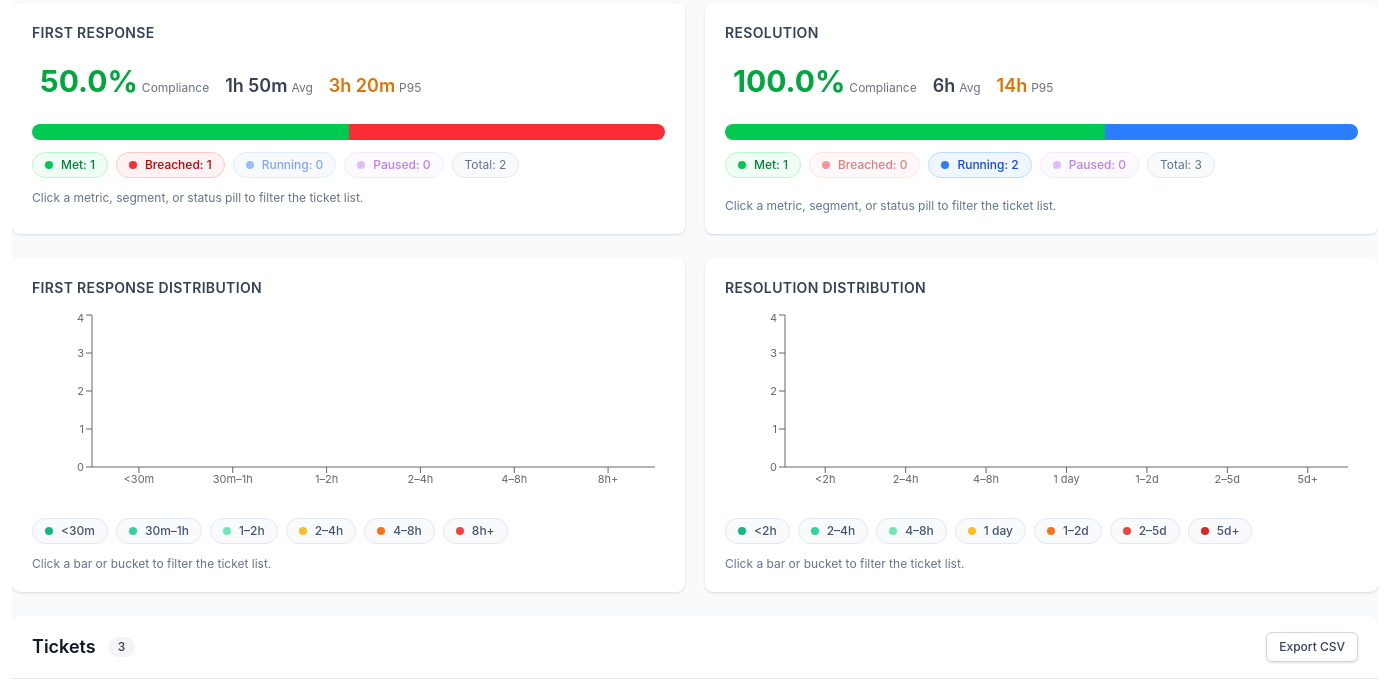
Test: SLAPage › filters the ticket list when a distribution bucket is clicked
The image size is (1390, 685).
Expected: the heading "First Response Distribution" is shown, [32,279,262,296]
Step 1. Click the button named "Filter First Response Distribution bucket <30m" → coordinates (70, 531), box [32,518,108,544]
(page scrolled)
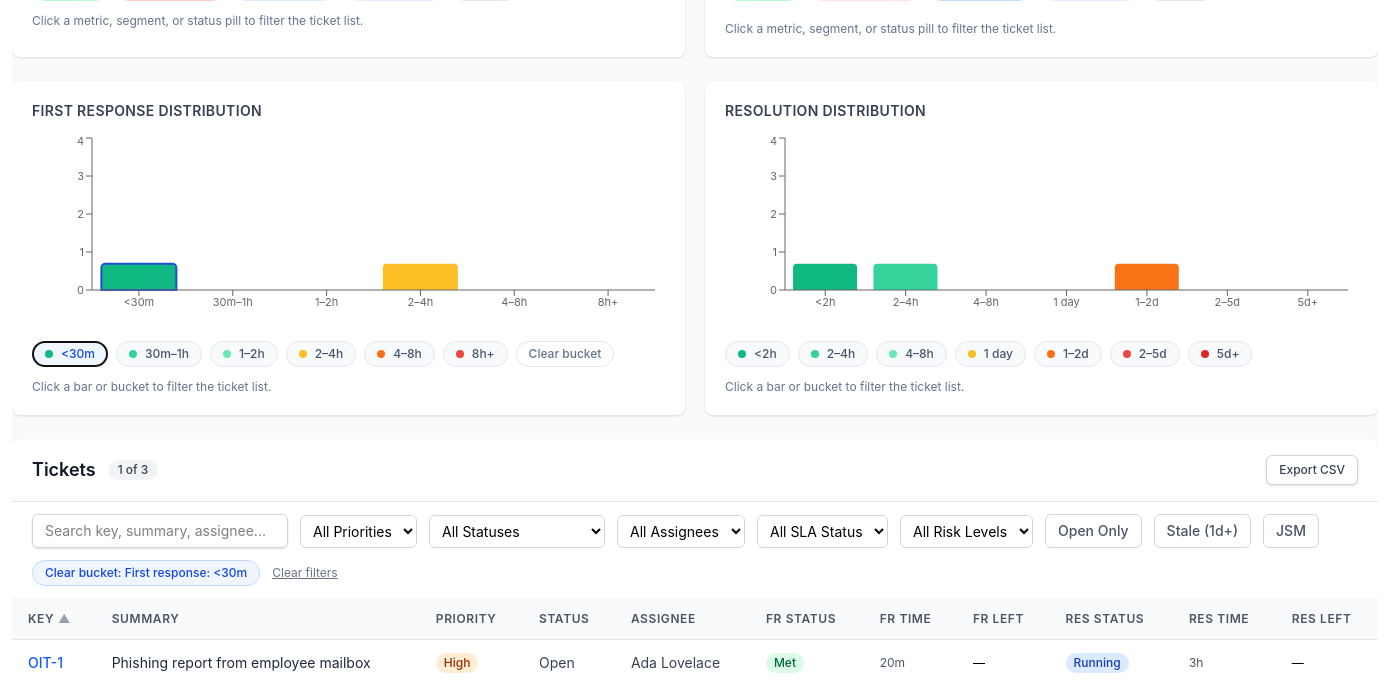
Expected: the link "OIT-1" is shown, [28,654,63,670]
Step 2. Click the button "Clear bucket: First response: <30m" → coordinates (146, 573), box [32,560,260,586]
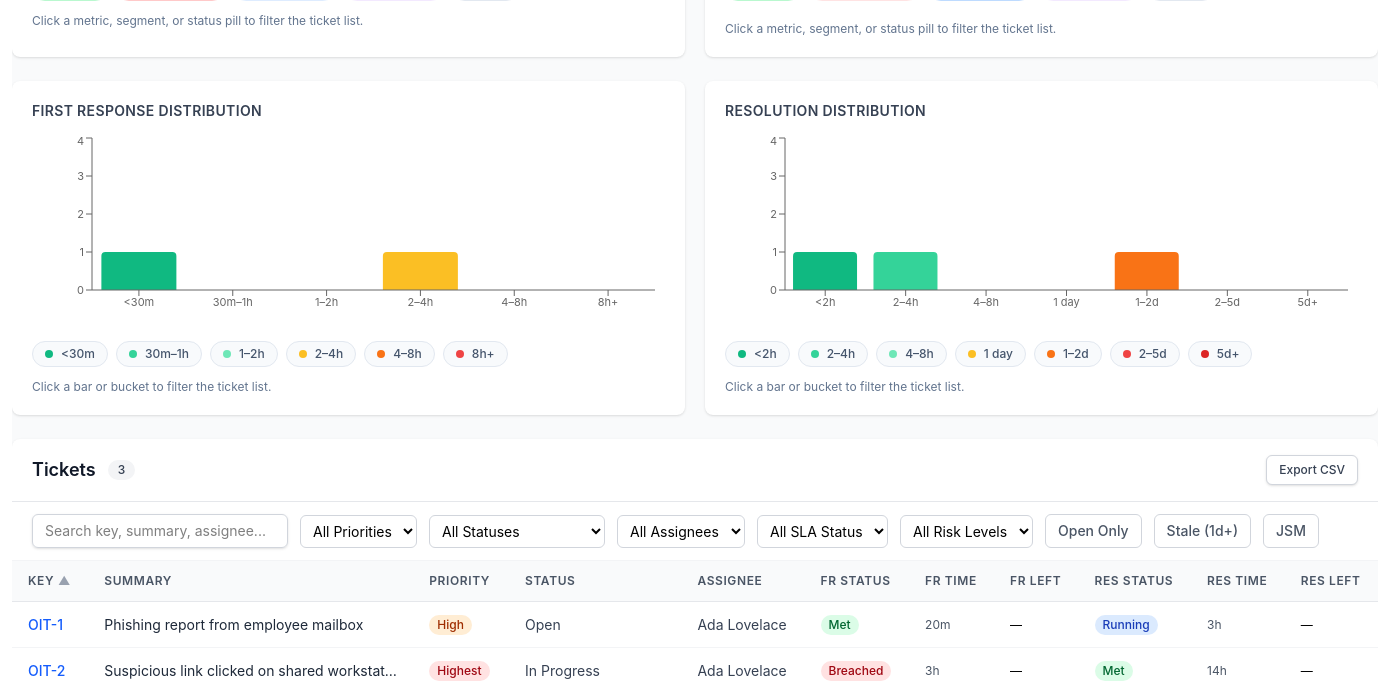
Expected: the link "OIT-1" is shown, [28,616,63,632]
Expected: the link "OIT-2" is shown, [28,662,66,678]
